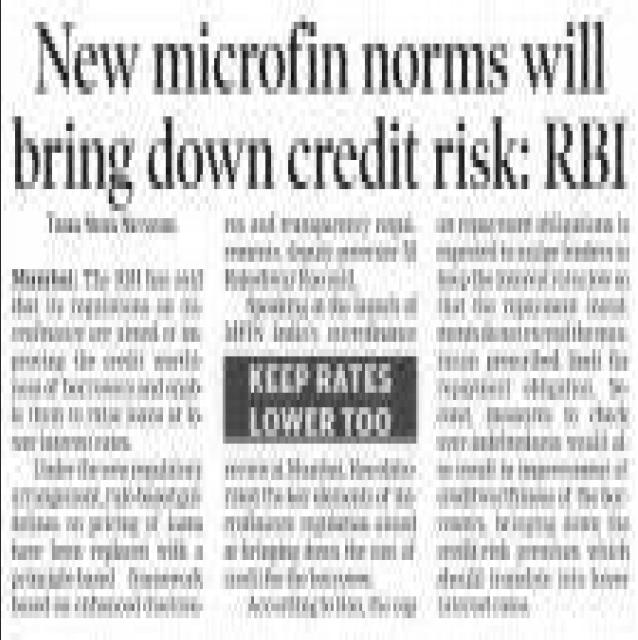paper: (1, 0, 638, 640)
